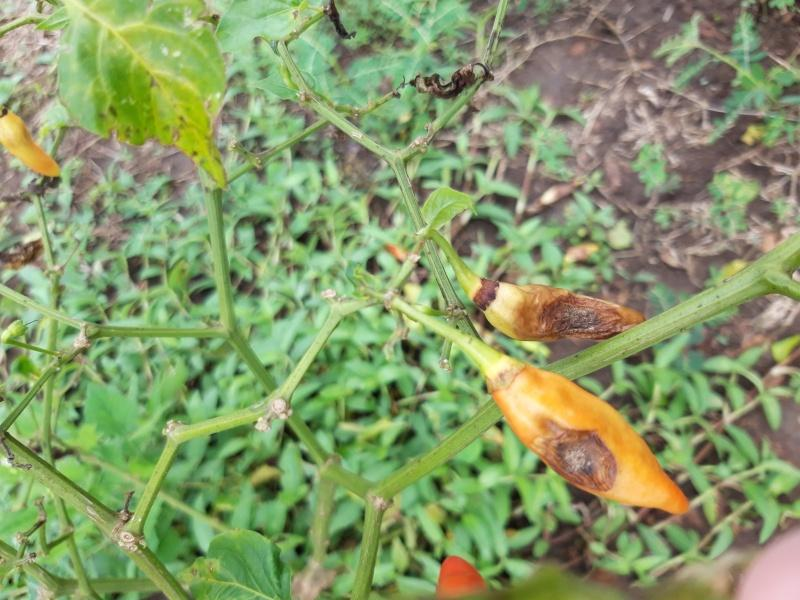antraknosa: (488, 360, 686, 515), (489, 283, 652, 341), (1, 109, 59, 176)
